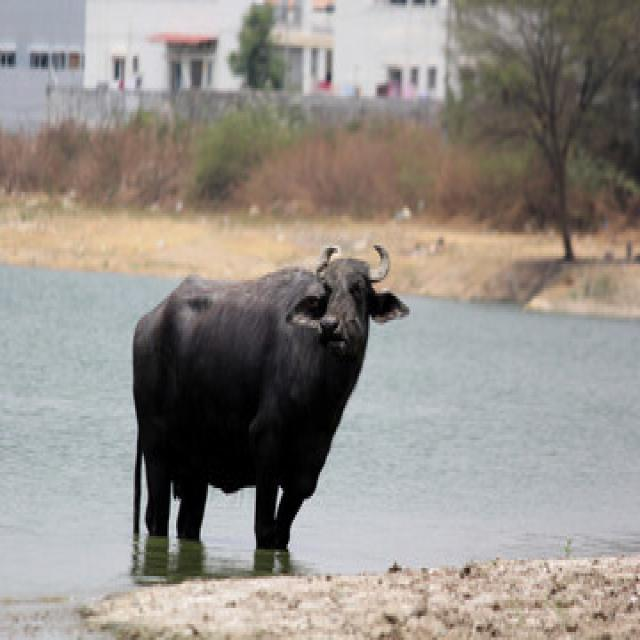Buffalo: (126, 237, 411, 552)
